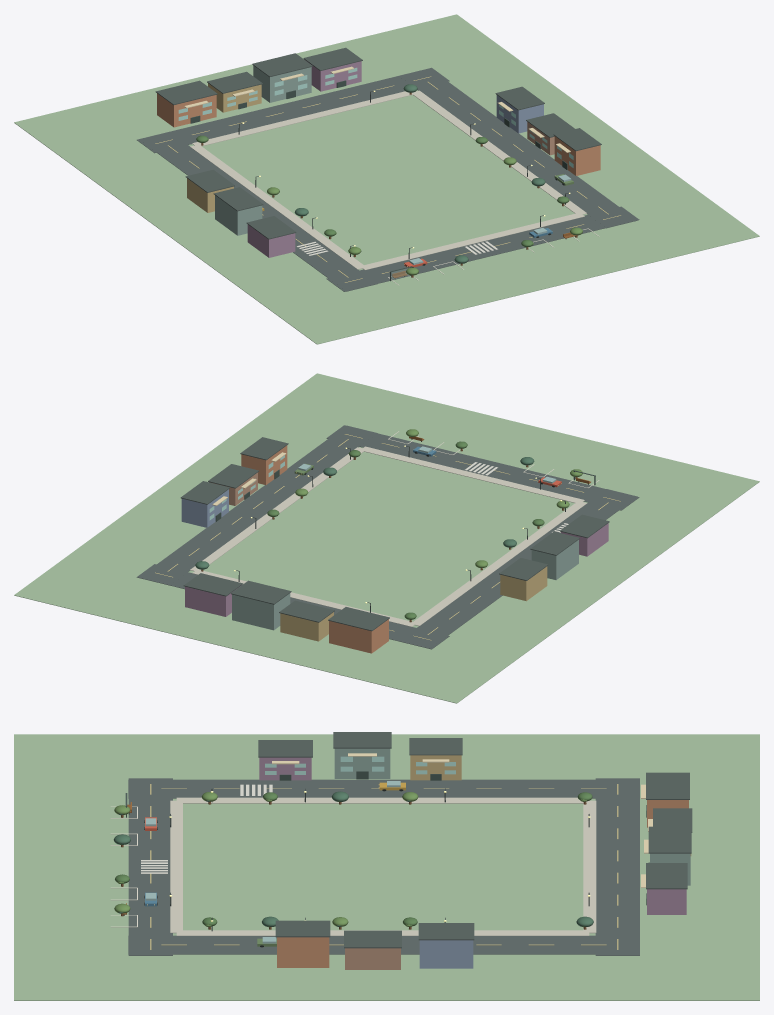
File: city.glb
3 renders of one model, top to bottom at view 1: azimuth 30°, elevation 25°; view 2: azimuth 150°, elevation 25°; view 3: azimuth 270°, elevation 25°, orthographic. The views are drawn at different scales.
Parts seen in each view (by area): view 1: n2; view 2: n2; view 3: n2.
Part boxes in pixels (left/top/right/bottom): n2: left=14, top=14, right=759, bottom=344; n2: left=14, top=373, right=759, bottom=703; n2: left=14, top=732, right=759, bottom=1000.
Bounding box in the file's own units: 108 × 6.53 × 128.
